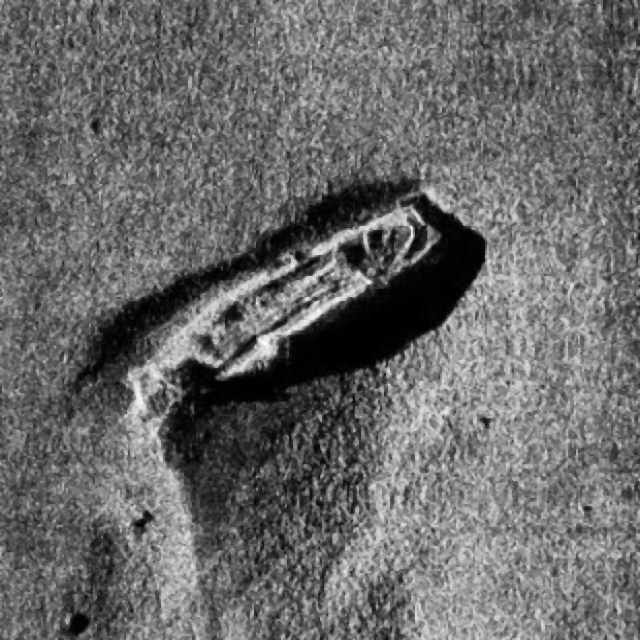Ship: (90, 170, 454, 419)
